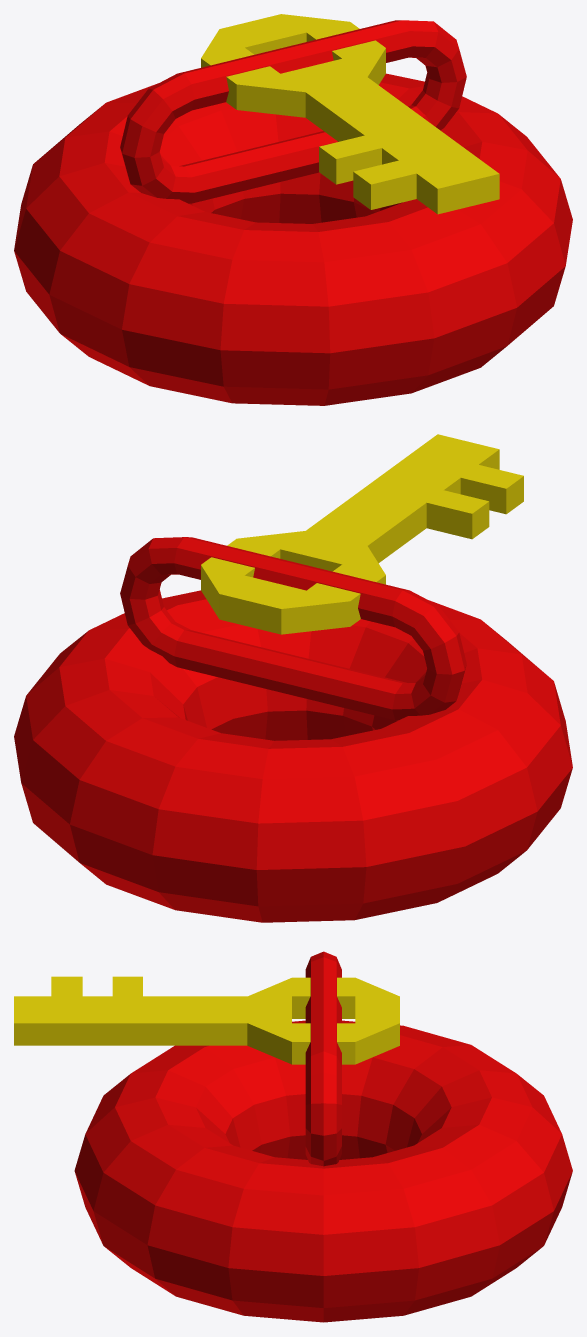
The model's file is pickables.gltf.
3 views of the same model, one above another, from view 1: azimuth 30°, elevation 25°; view 2: azimuth 150°, elevation 25°; view 3: azimuth 270°, elevation 25° (orthographic). The views are drawn at different scales.
Parts seen in each view (by area): view 1: Blocker, Key; view 2: Blocker, Key; view 3: Blocker, Key.
Boxes of the visible parts, box(x1,y1,x2,y2) form: Blocker: box(14, 20, 572, 405); Key: box(201, 14, 499, 214); Blocker: box(14, 537, 572, 922); Key: box(201, 434, 523, 634); Blocker: box(74, 951, 572, 1322); Key: box(14, 976, 399, 1064).
Size of the model in its own units: 6.04 by 3.21 by 6.77.
